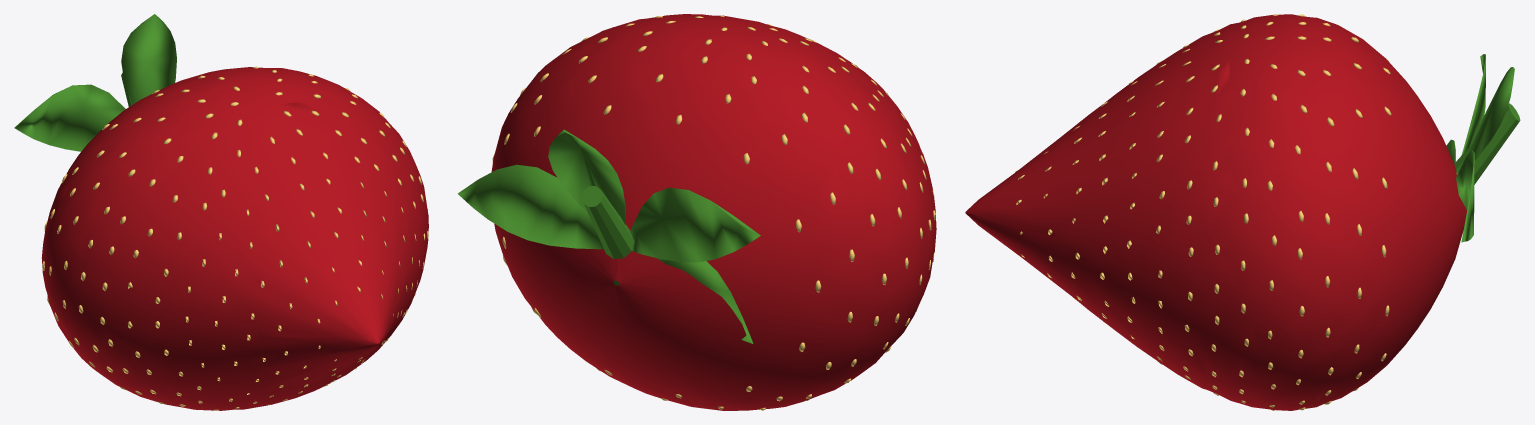
The model's file is strawberry.fbx.
The picture shows the model from 3 angles, left to right: view 1: azimuth 30°, elevation 25°; view 2: azimuth 150°, elevation 25°; view 3: azimuth 270°, elevation 25°; orthographic projection. The views are drawn at different scales.
Visible parts, largest first — view 1: strawberry; view 2: strawberry; view 3: strawberry.
Boxes of the visible parts, bbox=[...] form: strawberry: bbox=[14, 14, 428, 410]; strawberry: bbox=[457, 14, 936, 410]; strawberry: bbox=[965, 14, 1520, 410].
Bounding box in the file's own units: 45 × 38 × 55.
